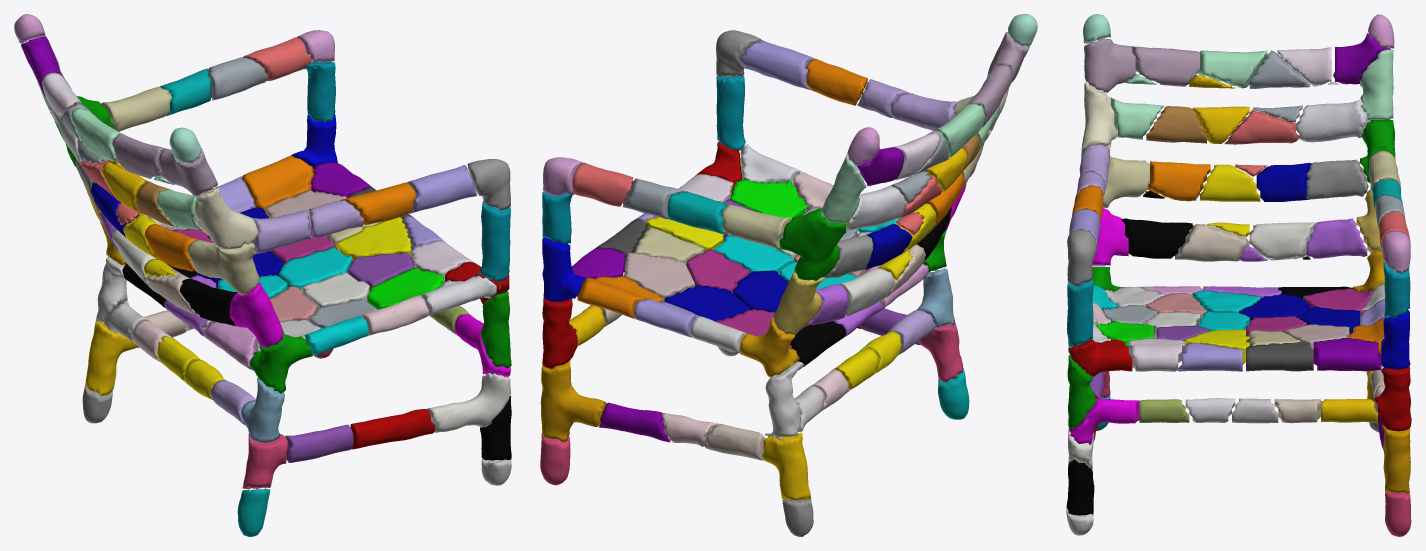
Rendered from 5_local.glb.
The picture shows the model from 3 angles, left to right: view 1: azimuth 30°, elevation 25°; view 2: azimuth 150°, elevation 25°; view 3: azimuth 270°, elevation 25°; orthographic projection. The views are drawn at different scales.
Bounding box in the file's own units: 0.8585 × 1.04 × 0.8398.
